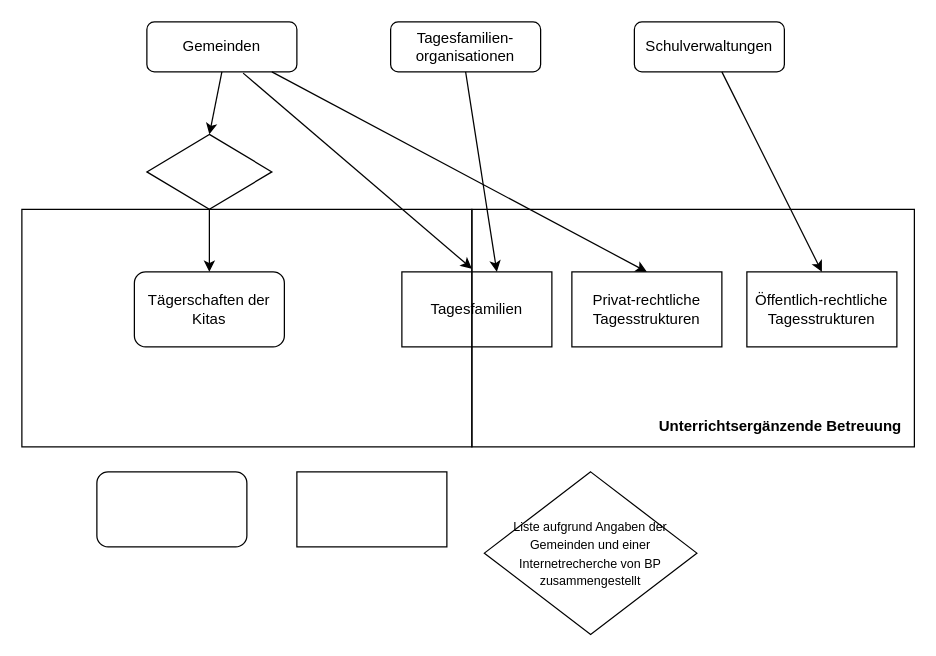
Image size: 936x656. Some labels were removed from this diagram. The shapes that lost their labels are listed below. From the top down, each one's box as (x1, y1, x2, y2) in pixels, then its label:
(146, 133, 272, 209): Liste Kitas
(21, 208, 472, 447): Familienergänzende Betreuung im Frühbereich
(96, 471, 247, 547): Befragungen
(296, 471, 447, 547): Keine Befragungen
